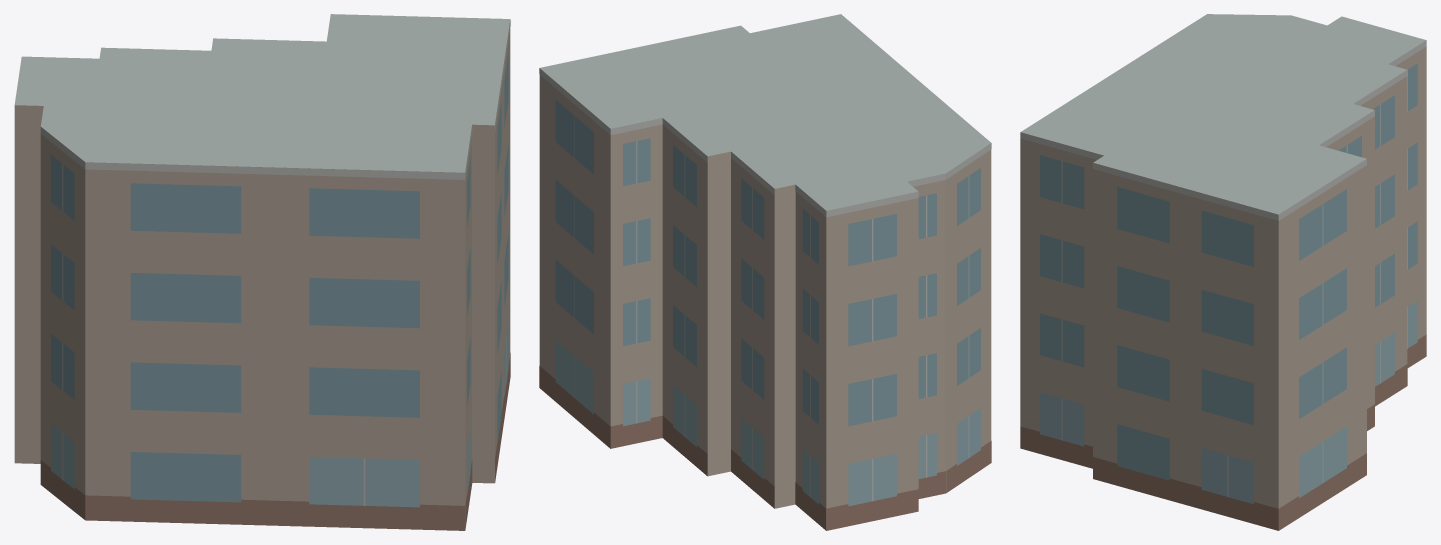
File: survey-upis-32616089.glb
3 renders of one model, left to right at view 1: azimuth 30°, elevation 25°; view 2: azimuth 150°, elevation 25°; view 3: azimuth 270°, elevation 25°, orthographic. The views are drawn at different scales.
Visible parts, largest first — view 1: survey-upis-32616089.tmp; view 2: survey-upis-32616089.tmp; view 3: survey-upis-32616089.tmp.
Boxes of the visible parts, left/top/right/bottom form: survey-upis-32616089.tmp: left=14, top=14, right=510, bottom=530; survey-upis-32616089.tmp: left=539, top=14, right=991, bottom=530; survey-upis-32616089.tmp: left=1020, top=14, right=1426, bottom=530.
Bounding box in the file's own units: 16.55 × 12.16 × 14.16.
